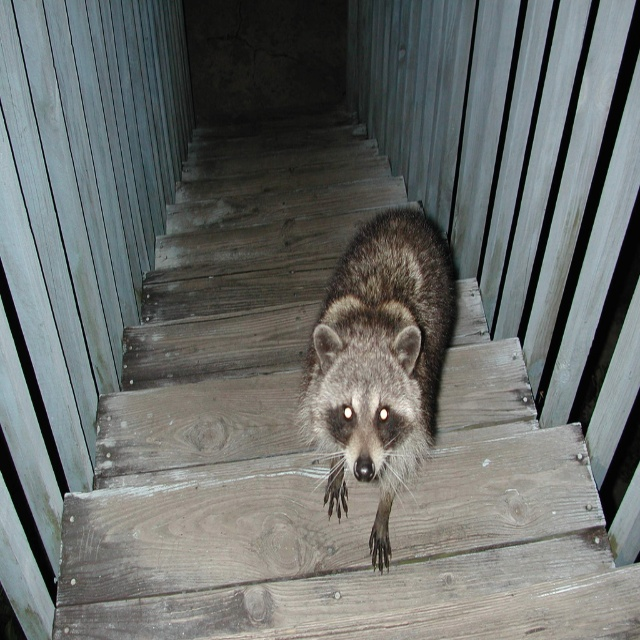Raccoon: (291, 202, 460, 576)
